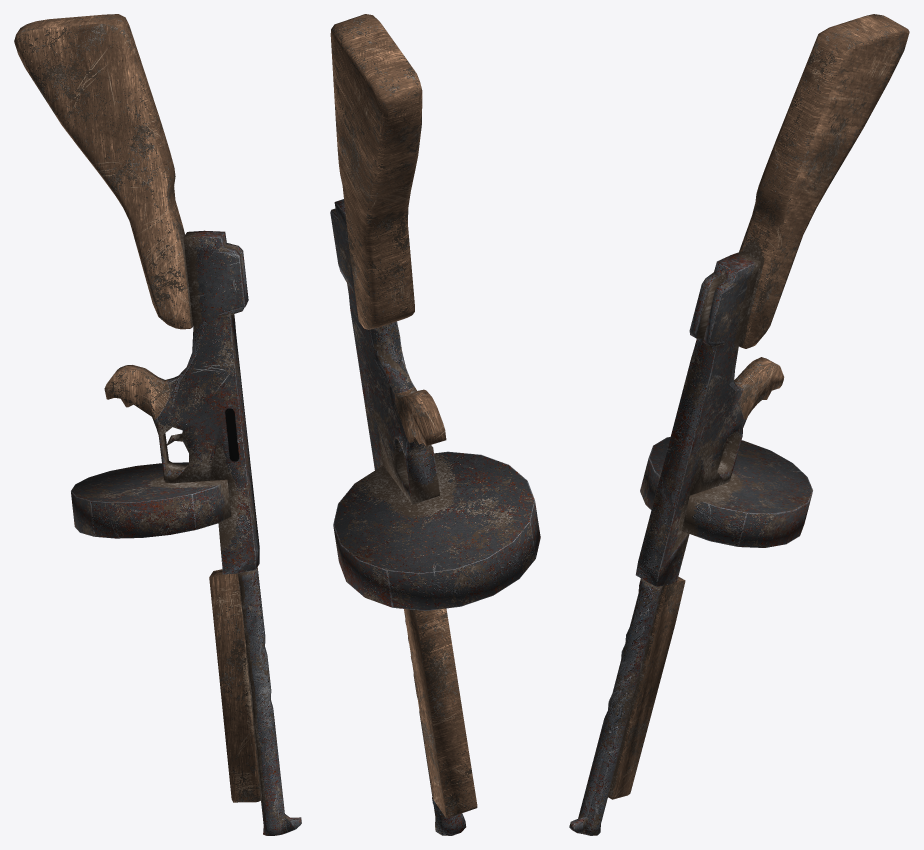
Rendered from Anim_idle_ametralladora_objetos.0042.obj.
3 renders of one model, left to right at view 1: azimuth 30°, elevation 25°; view 2: azimuth 150°, elevation 25°; view 3: azimuth 270°, elevation 25°, orthographic. The views are drawn at different scales.
Visible parts, largest first — view 1: Ametralladora1; view 2: Ametralladora1; view 3: Ametralladora1.
Part boxes in pixels (x1=…): Ametralladora1: x1=14, y1=14, x2=301, y2=835; Ametralladora1: x1=330, y1=14, x2=540, y2=835; Ametralladora1: x1=569, y1=14, x2=909, y2=835.
Bounding box in the file's own units: 1.28 × 5.81 × 2.31.
